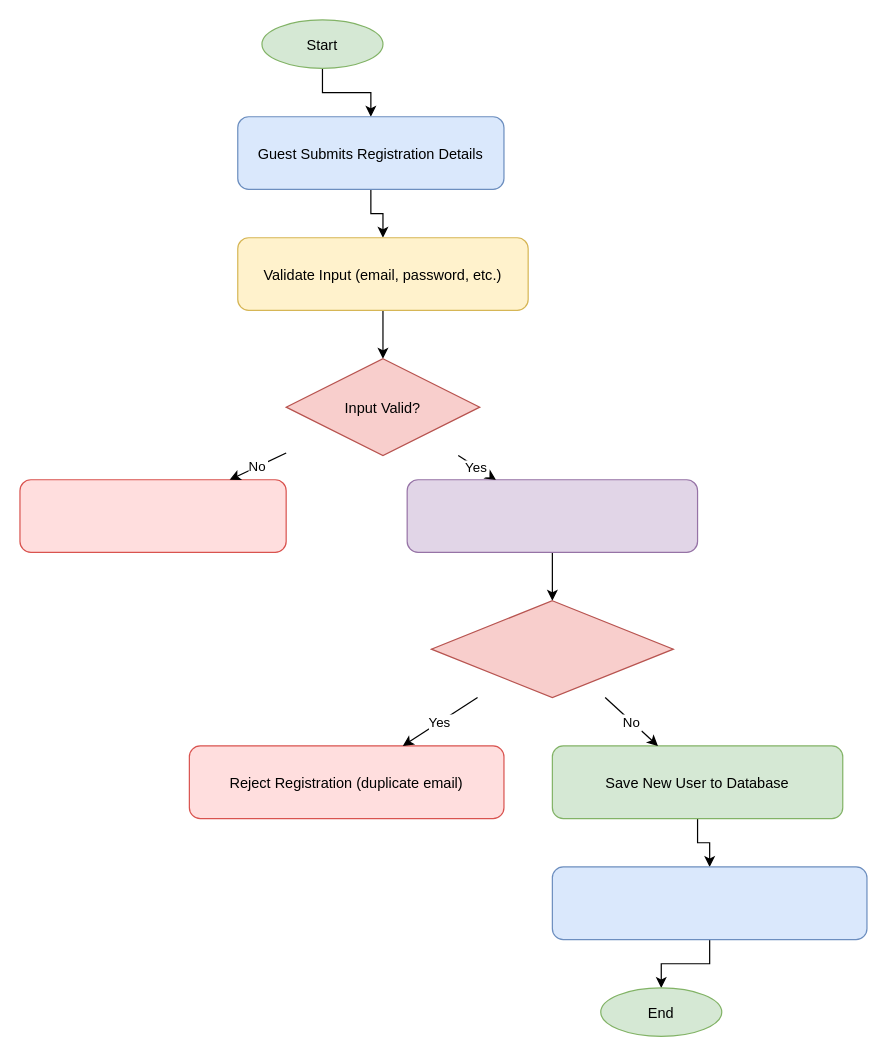
This 887x1056 diagram has some shape labels left out. Each missing label, with the centre of its shape:
"Check if Email Already Exists" goes at point 552,515.
"Reject Registration (show error)" goes at point 152,515.
"Send Confirmation Email / Notification" goes at point 709,903.
"User Already Exists?" goes at point 551,649.
